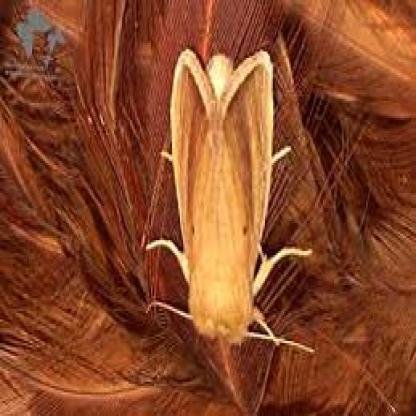stem-borer: (159, 41, 277, 352)
